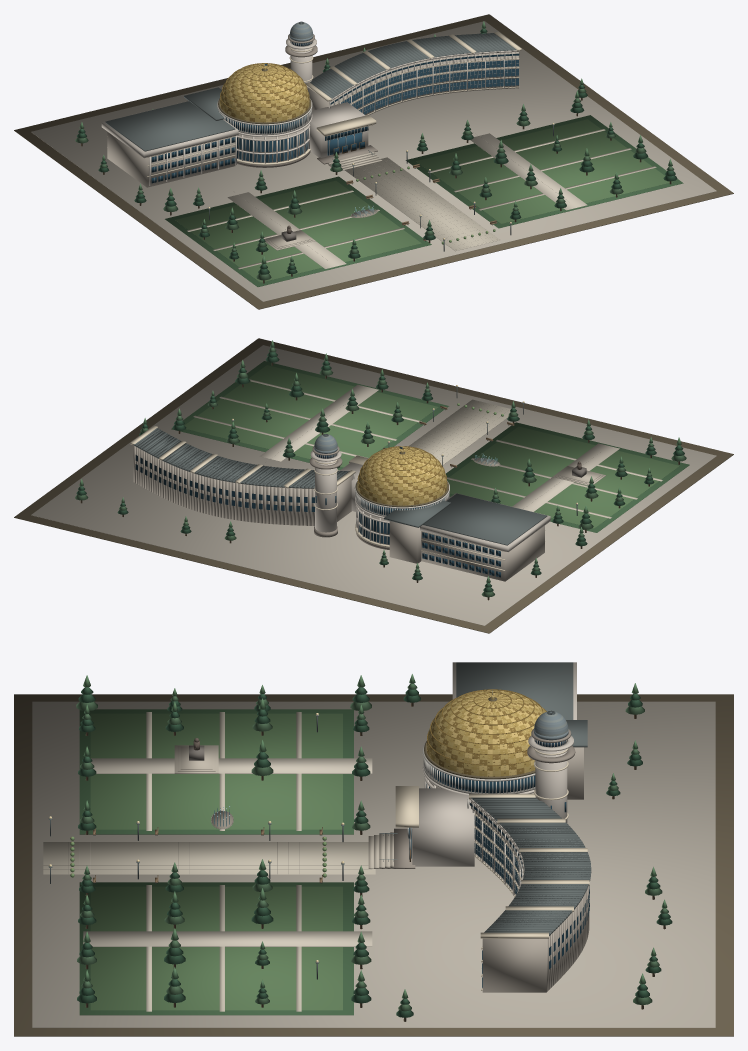
File: schoolchildren_palace.glb
3 renders of one model, top to bottom at view 1: azimuth 30°, elevation 25°; view 2: azimuth 150°, elevation 25°; view 3: azimuth 270°, elevation 25°, orthographic. The views are drawn at different scales.
Parts seen in each view (by area): view 1: school_palace_paving, school_palace_grass, school_palace_soil, school_palace_roof, school_palace_walkway, school_palace_wall, school_palace_wall_light, school_palace_grass_dark, school_palace_glass, school_palace_paving_light, school_palace_stone_trim, school_palace_conifer (+11 smaller); view 2: school_palace_paving, school_palace_grass, school_palace_soil, school_palace_wall, school_palace_roof, school_palace_walkway, school_palace_grass_dark, school_palace_wall_light, school_palace_paving_light, school_palace_conifer, school_palace_glass_dark, school_palace_gold_dark (+9 smaller); view 3: school_palace_paving, school_palace_grass, school_palace_soil, school_palace_walkway, school_palace_roof, school_palace_grass_dark, school_palace_wall_light, school_palace_paving_light, school_palace_wall, school_palace_conifer, school_palace_stone_trim, school_palace_conifer_light (+13 smaller).
Boxes of the visible parts, box(x1,y1,x2,y2) form: school_palace_paving: box(31, 21, 716, 301); school_palace_grass: box(175, 119, 672, 282); school_palace_soil: box(14, 14, 733, 309); school_palace_roof: box(105, 33, 516, 151); school_palace_walkway: box(187, 129, 656, 269); school_palace_wall: box(107, 52, 518, 187); school_palace_wall_light: box(101, 39, 519, 185); school_palace_grass_dark: box(165, 115, 683, 286); school_palace_glass: box(239, 60, 518, 162); school_palace_paving_light: box(227, 133, 587, 269); school_palace_stone_trim: box(107, 31, 521, 176); school_palace_conifer: box(77, 28, 677, 274); school_palace_paving: box(31, 345, 716, 625); school_palace_grass: box(184, 365, 679, 528); school_palace_soil: box(14, 338, 733, 633); school_palace_wall: box(133, 445, 544, 581); school_palace_roof: box(133, 428, 547, 545); school_palace_walkway: box(193, 379, 662, 518); school_palace_grass_dark: box(171, 361, 689, 532); school_palace_wall_light: box(310, 451, 550, 551); school_palace_paving_light: box(260, 384, 619, 511); school_palace_conifer: box(76, 346, 684, 592); school_palace_glass_dark: box(135, 455, 500, 577); school_palace_gold_dark: box(357, 446, 446, 505); school_palace_paving: box(32, 701, 715, 1027); school_palace_grass: box(90, 713, 342, 1010); school_palace_soil: box(14, 694, 733, 1036); school_palace_walkway: box(43, 712, 375, 1011); school_palace_roof: box(456, 662, 591, 935); school_palace_grass_dark: box(79, 709, 353, 1015); school_palace_wall_light: box(412, 662, 576, 932); school_palace_paving_light: box(83, 758, 372, 946); school_palace_wall: box(429, 747, 589, 992); school_palace_conifer: box(77, 682, 672, 1017); school_palace_stone_trim: box(395, 748, 589, 990); school_palace_conifer_light: box(76, 683, 668, 1011).
Size of the model in its own units: 221 by 43.68 by 197.
